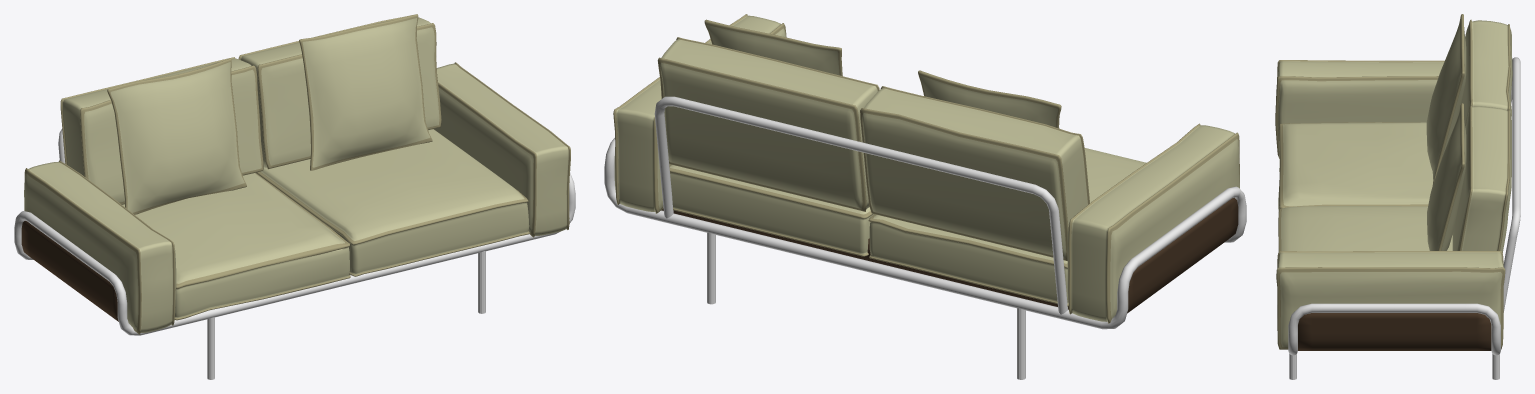
The model's file is amelie.obj.
The picture shows the model from 3 angles, left to right: view 1: azimuth 30°, elevation 25°; view 2: azimuth 150°, elevation 25°; view 3: azimuth 270°, elevation 25°; orthographic projection. The views are drawn at different scales.
Visible parts, largest first — view 1: cushion_base3_Cube.003, cushion_base2_Cube.004, cushion_Cube.007, cushion.001_Cube.006, cushion_base_Cube, cushion_base4_Cube.001, cushion_base6_Cube.002, cushion_base5_Cube.005, structure_Cylinder, cover_Cylinder.001; view 2: cushion_base6_Cube.002, cushion_base5_Cube.005, structure_Cylinder, cushion_base_Cube, cushion_base2_Cube.004, cushion_base3_Cube.003, cushion_base4_Cube.001, cover_Cylinder.001, cushion.001_Cube.006, cushion_Cube.007; view 3: cushion_base4_Cube.001, cushion_base2_Cube.004, cushion_base_Cube, cover_Cylinder.001, cushion_base5_Cube.005, cushion_base3_Cube.003, structure_Cylinder, cushion_base6_Cube.002, cushion.001_Cube.006, cushion_Cube.007.
Part boxes in pixels (box(x1,y1,x2,y2)): cushion_base3_Cube.003: box(256, 129, 529, 276); cushion_base2_Cube.004: box(122, 173, 350, 320); cushion_Cube.007: box(107, 58, 246, 214); cushion.001_Cube.006: box(299, 14, 432, 170); cushion_base_Cube: box(24, 160, 176, 334); cushion_base4_Cube.001: box(434, 62, 570, 237); cushion_base6_Cube.002: box(60, 57, 263, 204); cushion_base5_Cube.005: box(238, 15, 441, 169); structure_Cylinder: box(14, 129, 575, 379); cover_Cylinder.001: box(21, 220, 349, 321); cushion_base6_Cube.002: box(860, 86, 1089, 260); cushion_base5_Cube.005: box(657, 37, 879, 211); structure_Cylinder: box(604, 96, 1246, 379); cushion_base_Cube: box(1067, 123, 1239, 323); cushion_base2_Cube.004: box(868, 148, 1146, 306); cushion_base3_Cube.003: box(669, 164, 873, 256); cushion_base4_Cube.001: box(613, 14, 786, 213); cover_Cylinder.001: box(661, 197, 1238, 313); cushion.001_Cube.006: box(704, 19, 842, 76); cushion_Cube.007: box(918, 70, 1061, 128); cushion_base4_Cube.001: box(1276, 251, 1505, 349); cushion_base2_Cube.004: box(1278, 122, 1433, 211); cushion_base_Cube: box(1275, 60, 1444, 158); cover_Cylinder.001: box(1298, 313, 1491, 350); cushion_base5_Cube.005: box(1452, 105, 1511, 252); cushion_base3_Cube.003: box(1278, 206, 1452, 251); structure_Cylinder: box(1288, 57, 1520, 379); cushion_base6_Cube.002: box(1461, 19, 1512, 127); cushion.001_Cube.006: box(1427, 103, 1466, 250); cushion_Cube.007: box(1426, 14, 1466, 185).
Bounding box in the file's own units: 4 × 1.95 × 1.89.
